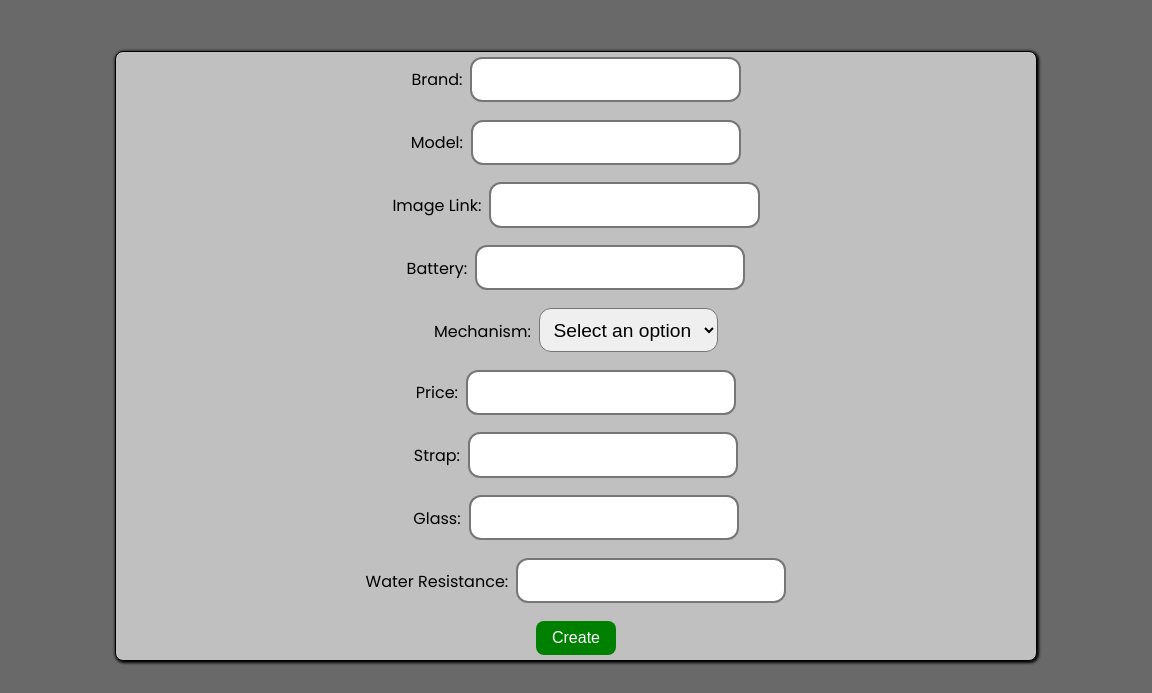
Test case: CreateWatch component › should display form validation errors if we click 'Create' button with empty fields
(page scrolled)
Click the button "Create": click(576, 638) [536,621,616,655]
(page scrolled)
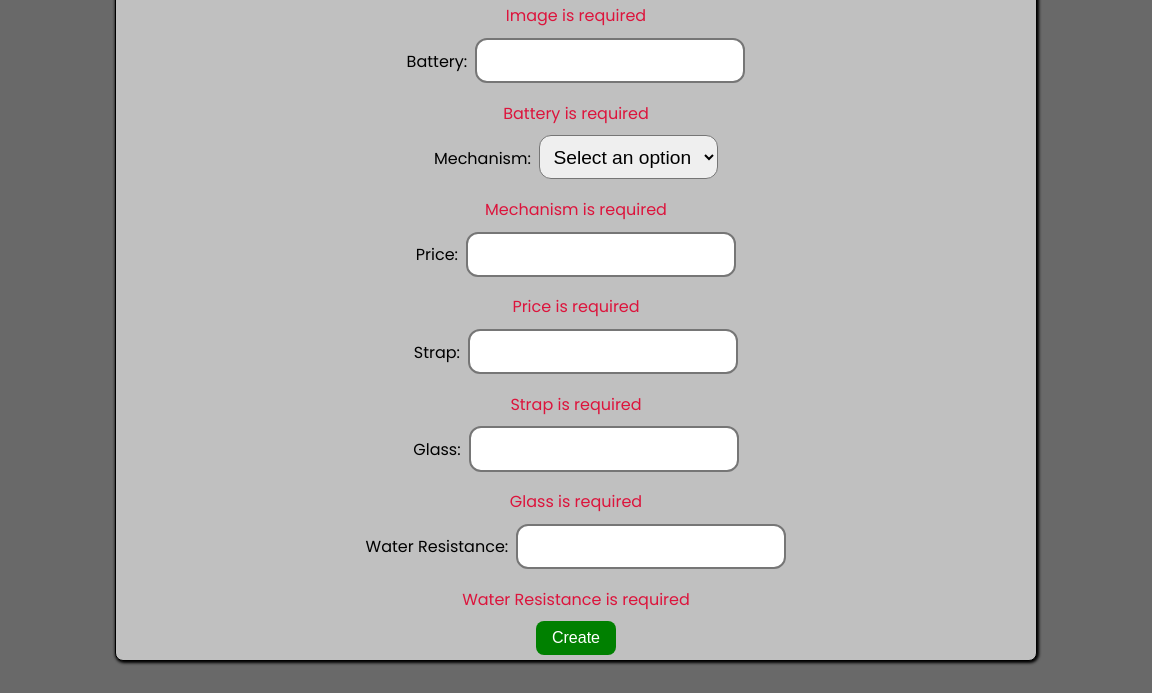
Expected: the text "Image is required" is shown, [506,4,646,27]
Expected: the text "Battery is required" is shown, [503,102,649,125]
Expected: the text "Mechanism is required" is shown, [485,198,667,221]
